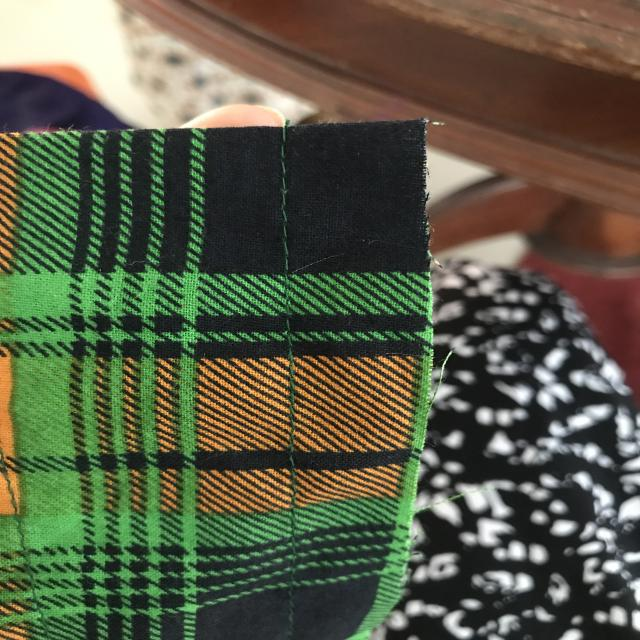good: (261, 182, 316, 268)
